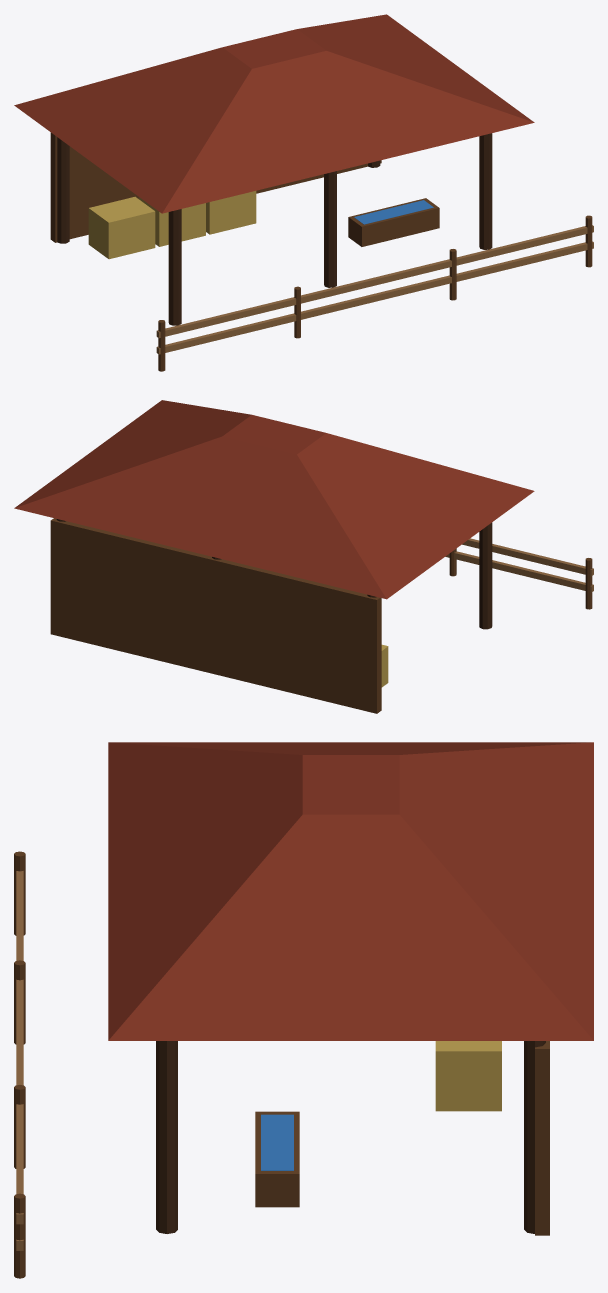
Rendered from SM_GZ_stable_ember.fbx.
3 renders of one model, top to bottom at view 1: azimuth 30°, elevation 25°; view 2: azimuth 150°, elevation 25°; view 3: azimuth 270°, elevation 25°, orthographic. The views are drawn at different scales.
Visible parts, largest first — view 1: SM_GZ_stable_ember; view 2: SM_GZ_stable_ember; view 3: SM_GZ_stable_ember.
Part boxes in pixels (x1,y1,x2,y2): SM_GZ_stable_ember: (14,14,593,371); SM_GZ_stable_ember: (14,400,593,713); SM_GZ_stable_ember: (14,742,593,1278).
Bounding box in the file's own units: 1120 × 480 × 788.
